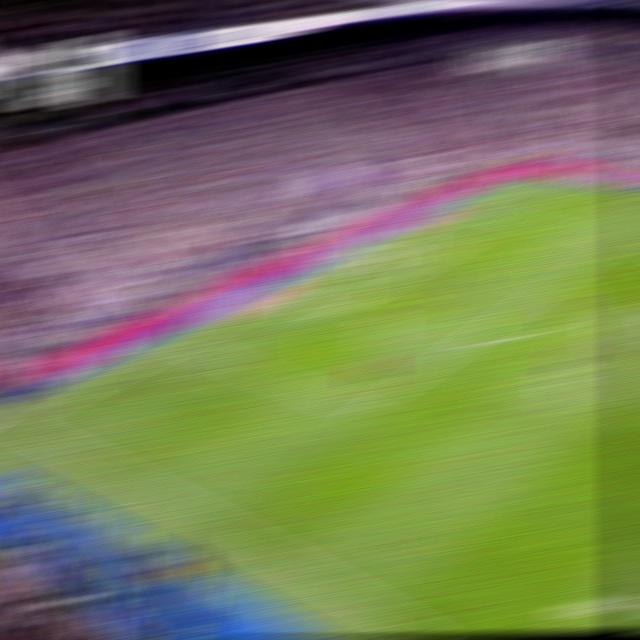bigarea_bottom_inner: (347, 402, 379, 421)
bigarea_bottom_outter: (172, 337, 202, 350)
bigarea_top_inner: (606, 233, 634, 245)
bigarea_top_outter: (454, 202, 483, 214)
bottom_arc_area_intersection: (453, 332, 484, 349)
corner: (515, 176, 544, 183)
smallarea_bottom_inner: (320, 306, 349, 320)
smallarea_bottom_outter: (271, 293, 299, 302)
smallarea_top_inner: (441, 246, 466, 253)
top_arc_area_intersection: (544, 274, 573, 287)
